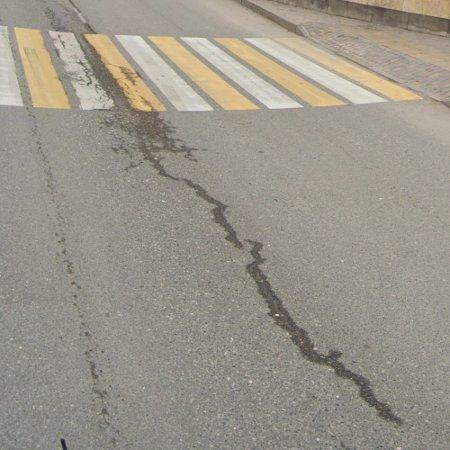crosswalks: (0, 27, 420, 121)
